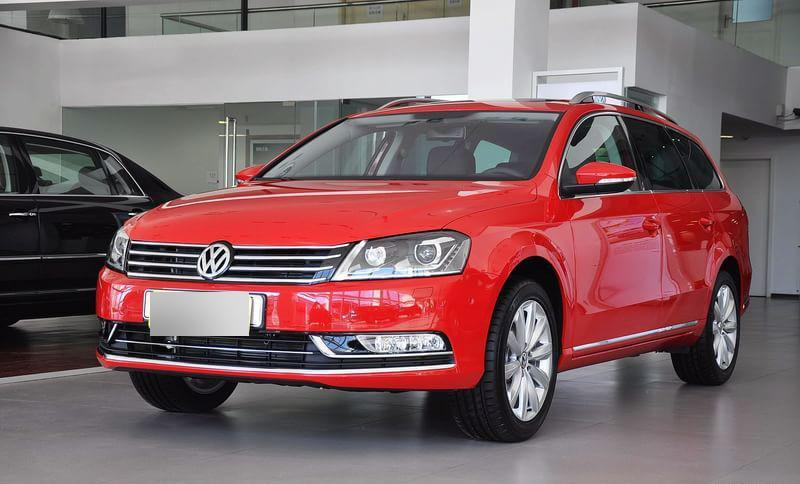Wagon: (94, 88, 754, 444)
